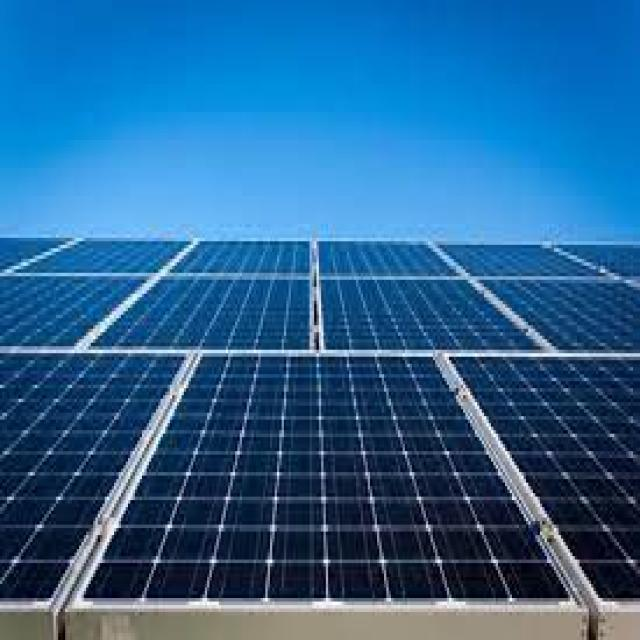clean-solar-panel: (1, 240, 640, 639)
